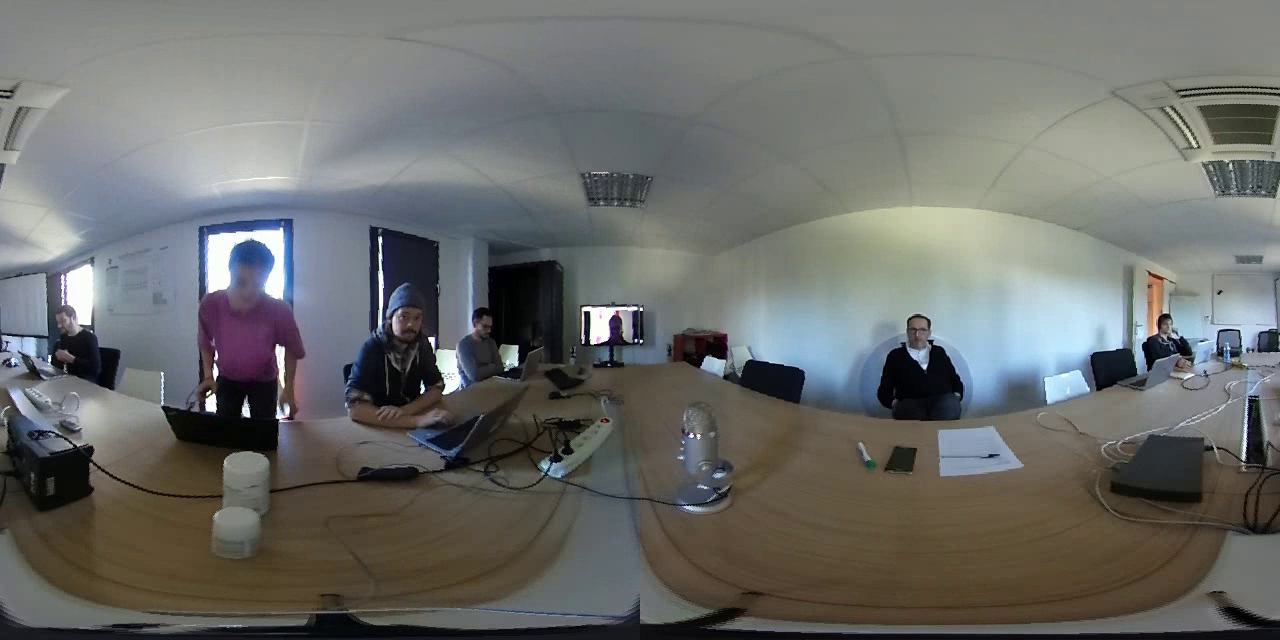person: (191, 221, 299, 416), (341, 277, 444, 428), (873, 307, 968, 419), (452, 300, 511, 389), (32, 301, 102, 371), (1143, 304, 1194, 361), (583, 307, 644, 340)
